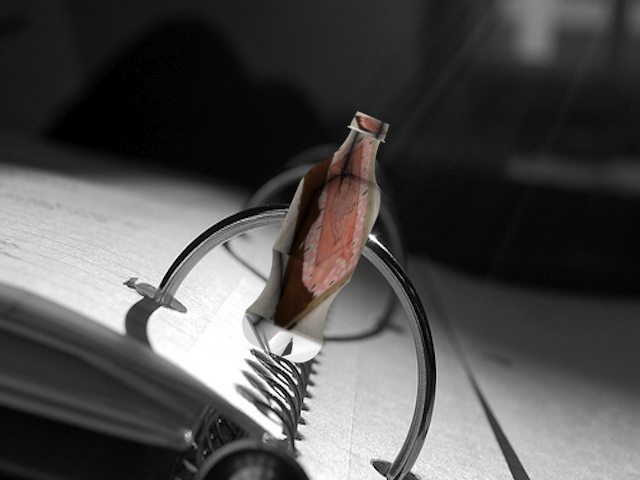bottle: (241, 106, 400, 368)
